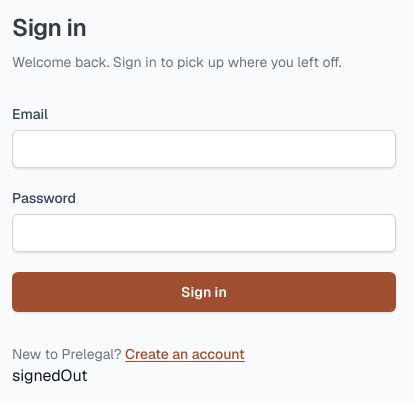
Test: AuthForm › sign in › shows progress and prevents double submits
Expected: the text with test id "auth" reads "signedOut", [12,365,88,386]
In the field labelled "Email": x=204, y=149 [12,130,396,168], type "jane@acme.com"
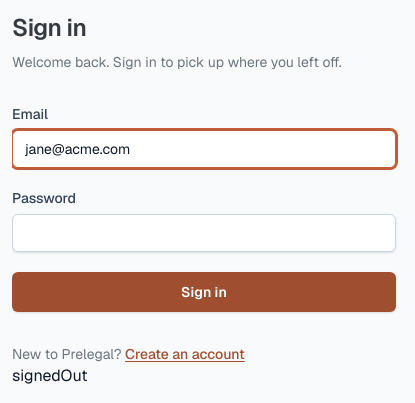
In the password field labelled "Password": x=204, y=233 [12,214,396,252], type "pa55word!"
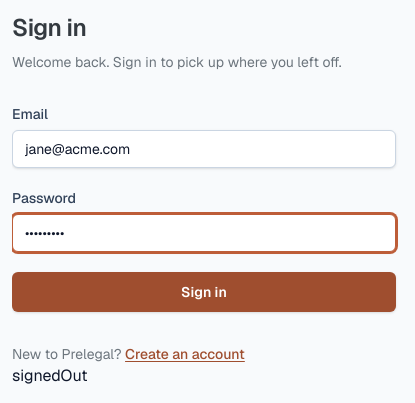
Click the button "Sign in": x=204, y=292 [12,272,396,312]
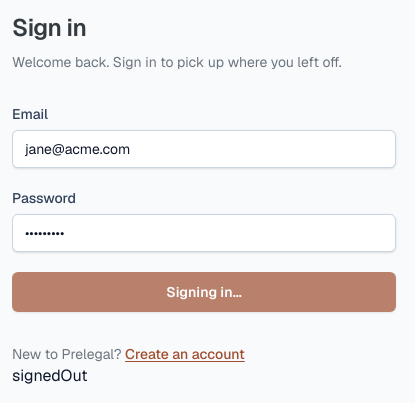
Expected: the button "Signing in…" is disabled
Click the button "Signing in…": x=204, y=292 [12,272,396,312]
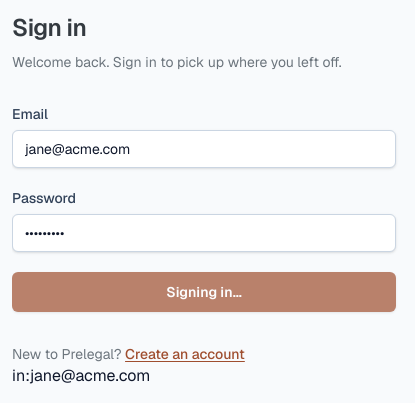
Expected: the text with test id "auth" reads "in:jane@acme.com", [12,365,150,386]
